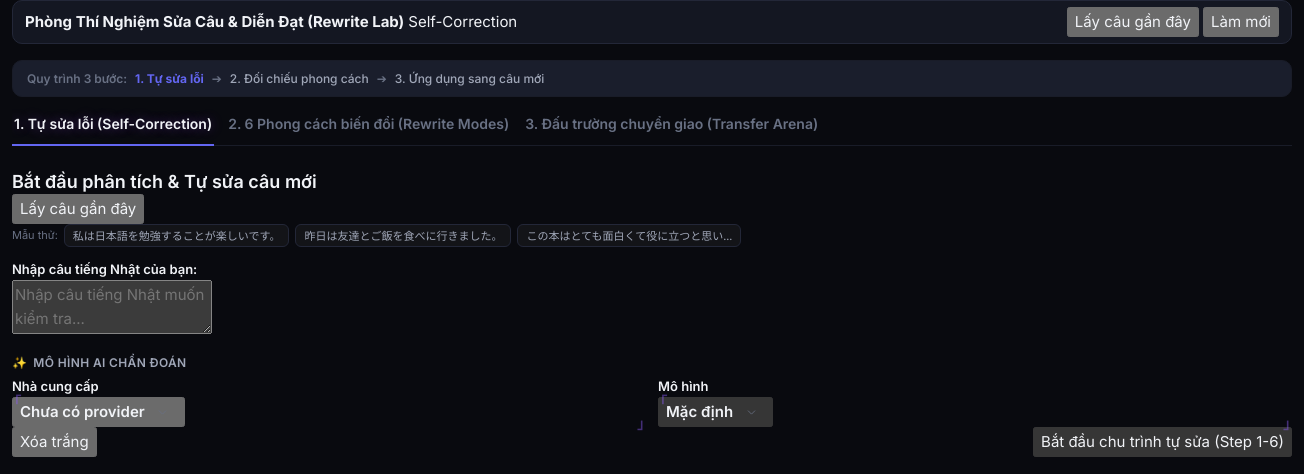
Test: RewriteLabPage (Phase 19) › switches to transfer check arena
Click the tab "3. Đấu trường chuyển giao (Transfer Arena)" at point(672, 125), box [523,105,820,146]
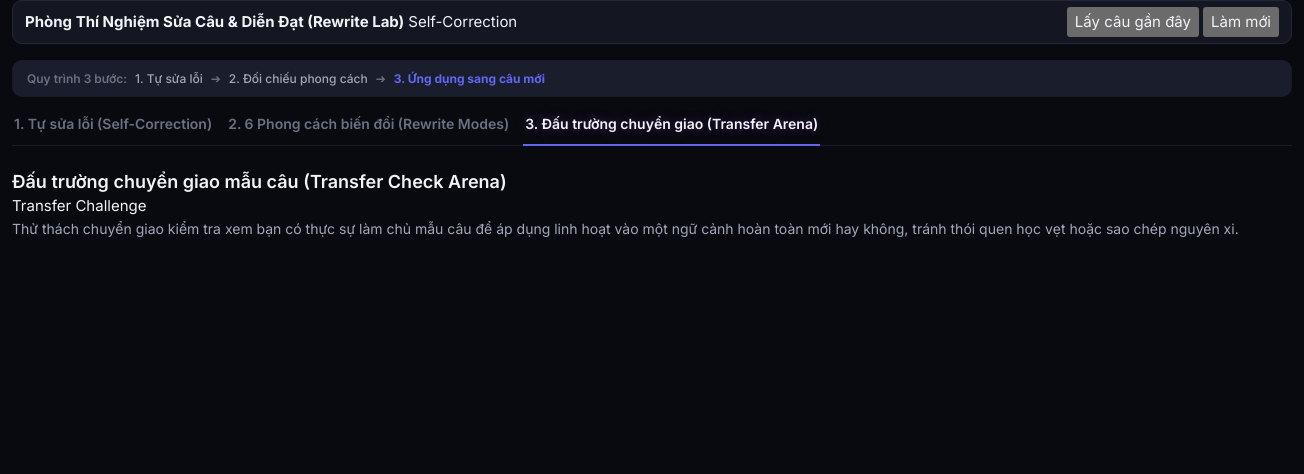
Result: the text "Đấu trường chuyển giao mẫu câu (Transfer Check Arena)" is shown at [12,171,507,192]
